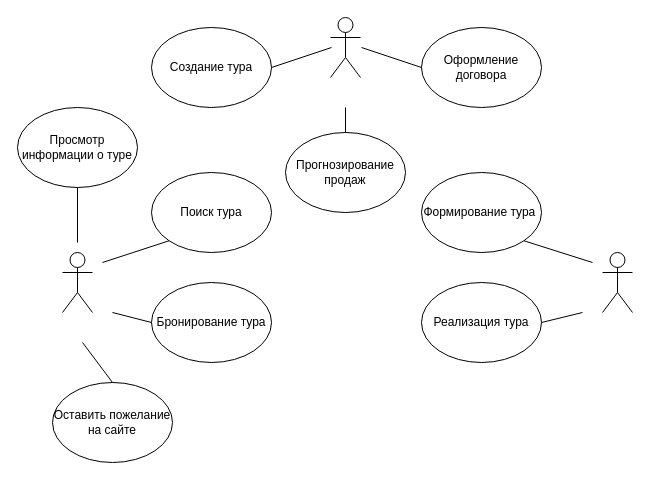
Some shapes in this 659 by 480 pixel diagram are drawn without their labels. Here are the shapes that lost their labels. From the top down, the centre of each, then its label:
At pixel 345 47: "Туроператор".
At pixel 77 282: "Клиент".
At pixel 617 282: "Турагент".
